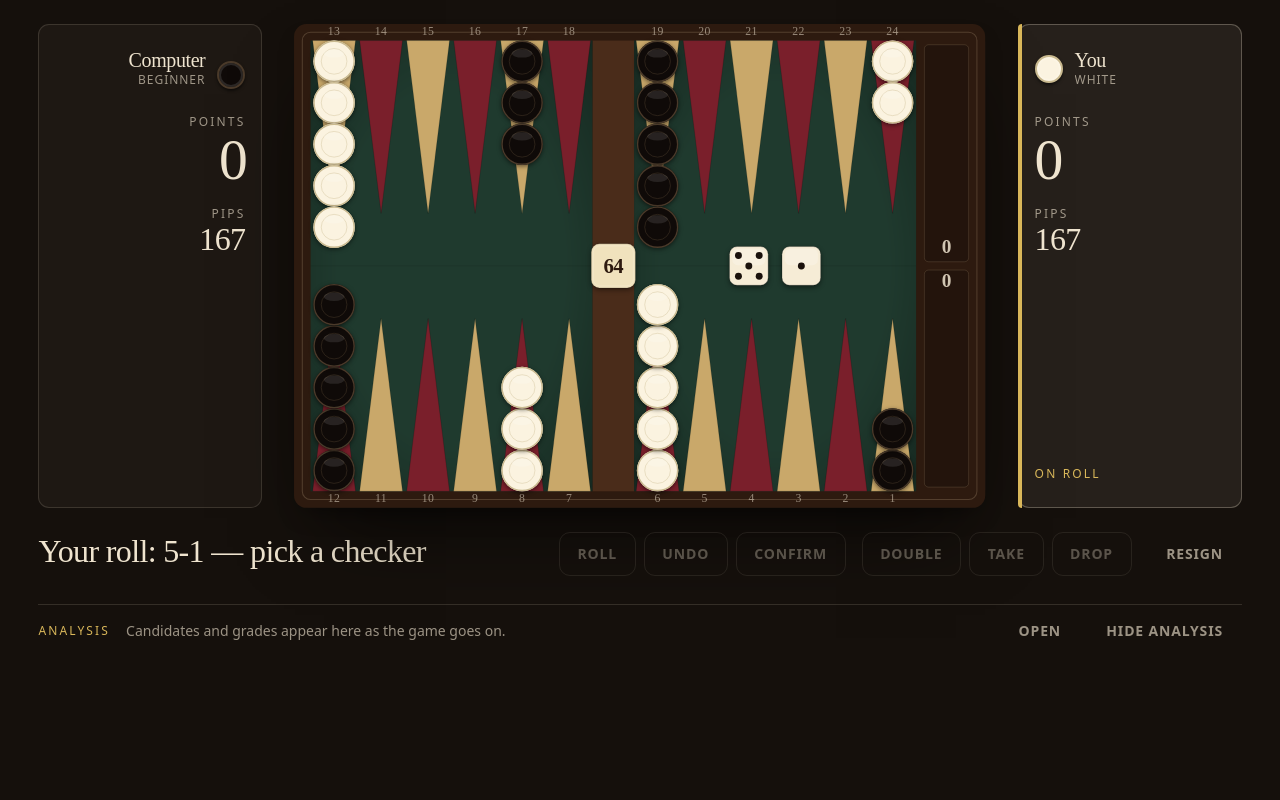
<TableLayout> › keeps keyboard focus on the table when Undo disables itself
Click the button named "Point 13" at (334, 153), box [311, 41, 358, 266]
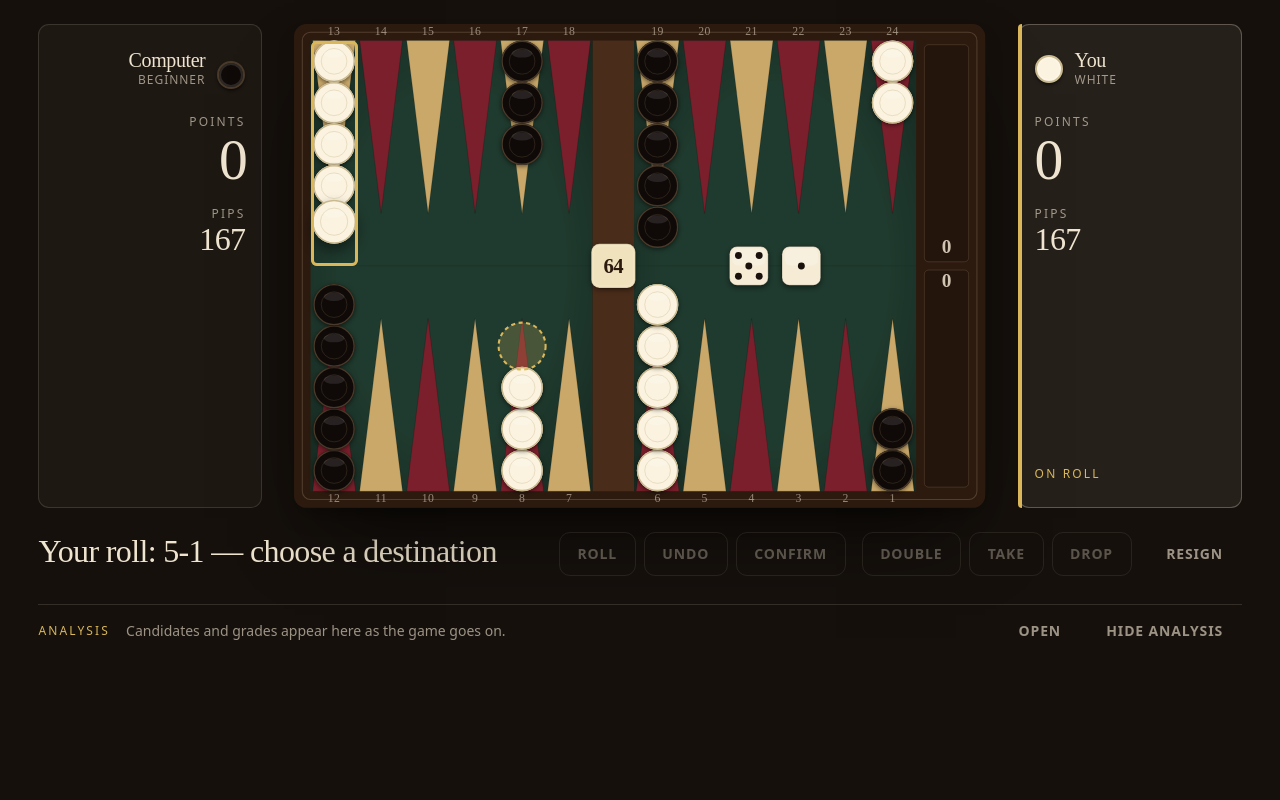
Click the button named "Point 8" at (522, 379), box [499, 266, 546, 491]
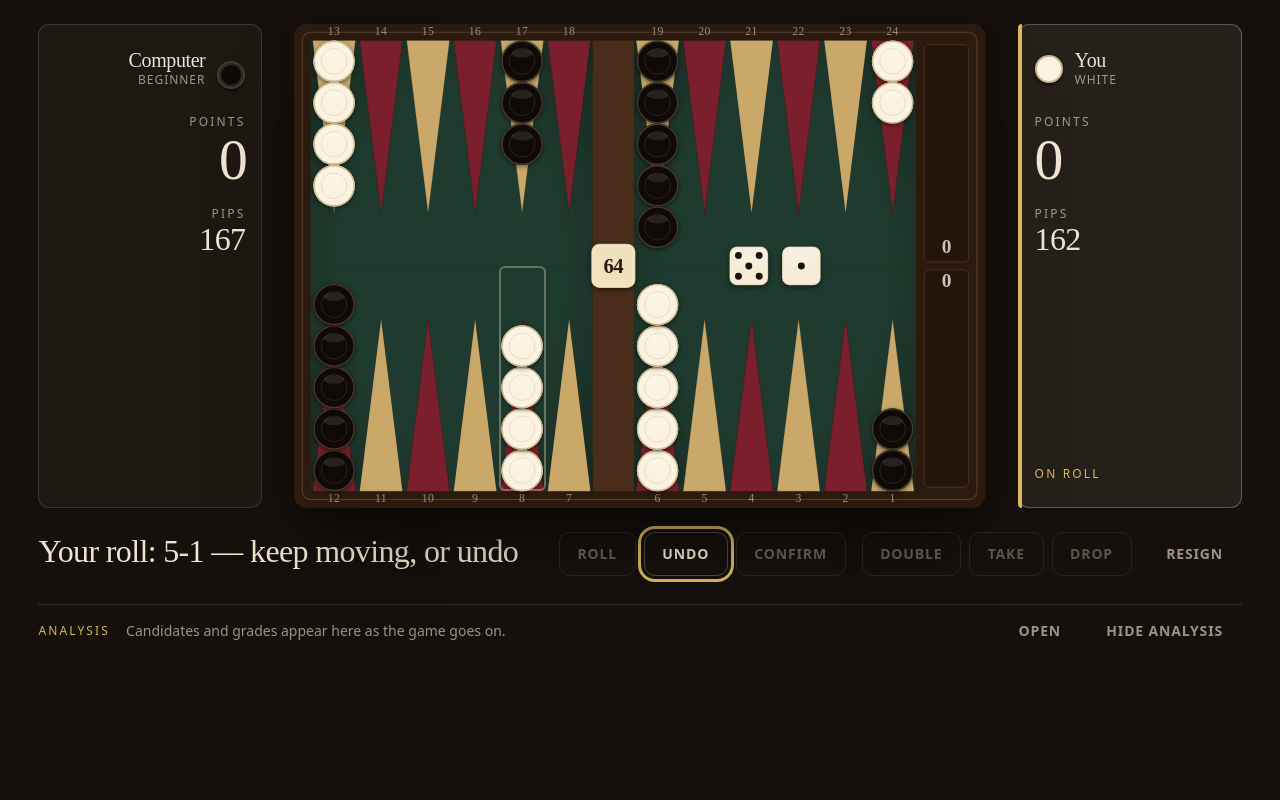
Press Enter
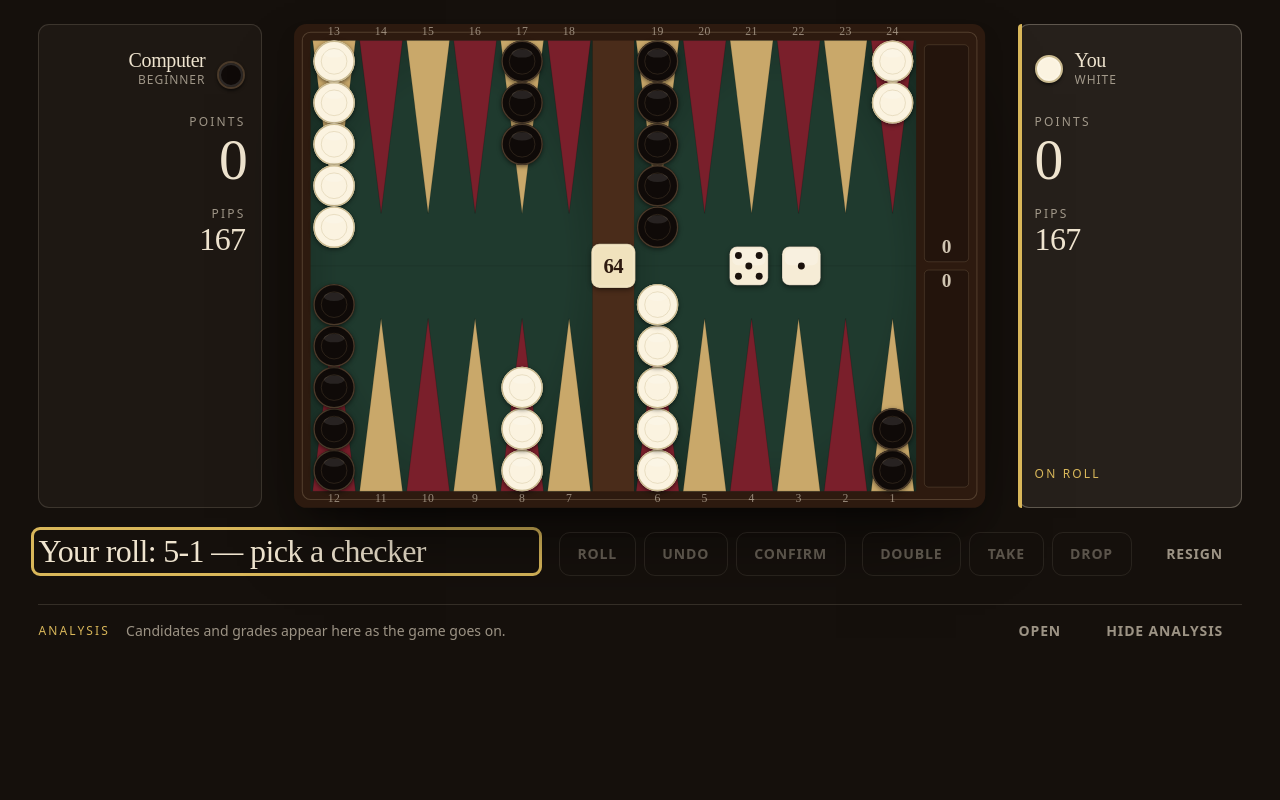
Check: the button "Undo" is disabled, box [644, 532, 728, 576]
